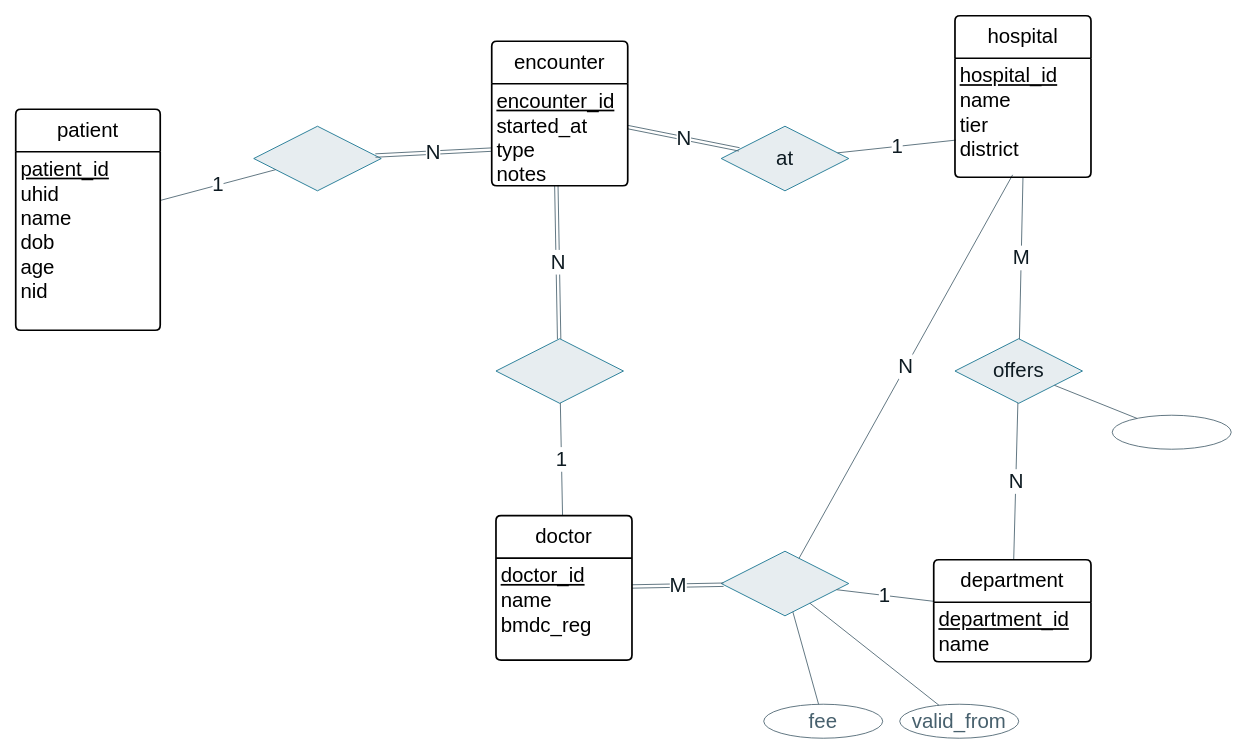
This 1246x753 diagram has some shape labels left out. Here are the shapes that lost their labels. From the top down, the centre of each, then its label:
pixel 317 158: has
pixel 559 370: attended by
pixel 1171 431: opd_room
pixel 784 583: posting
